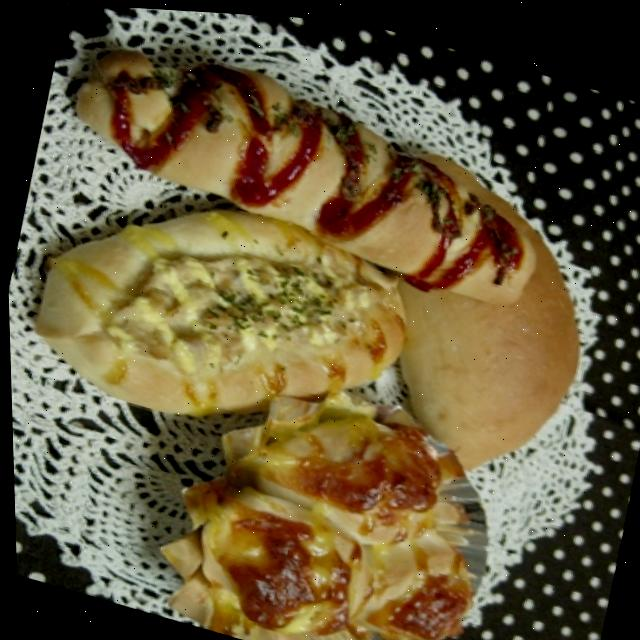三明治: (52, 33, 558, 323), (18, 147, 434, 478)
